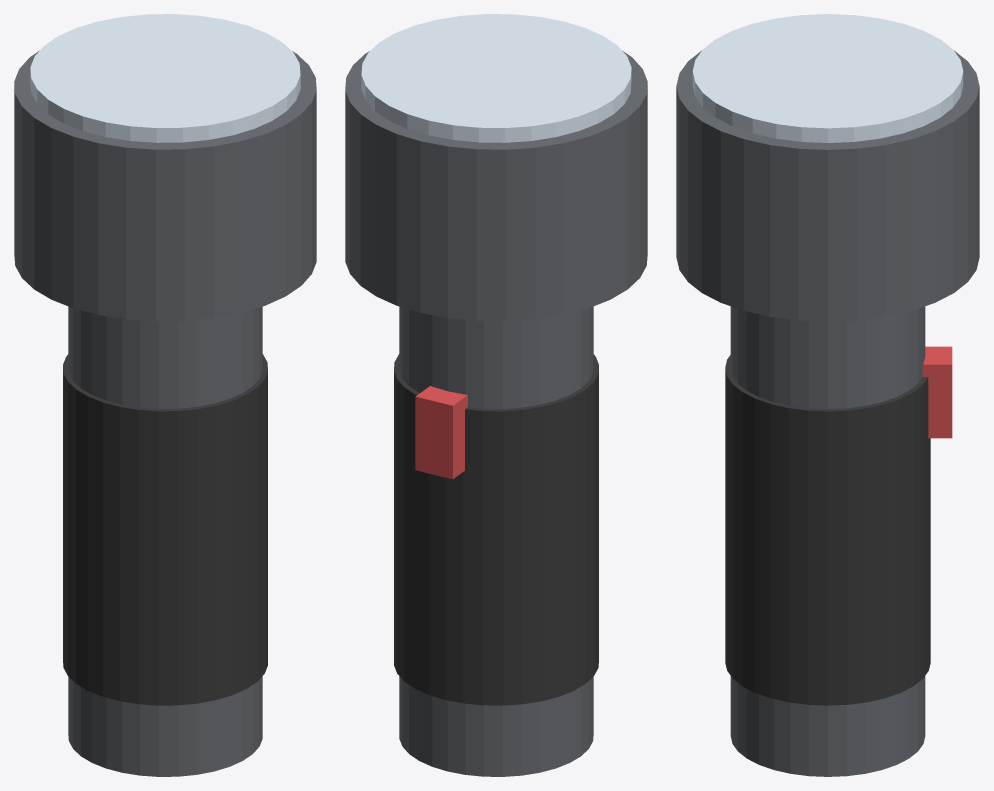
The model's file is tool_flashlight.fbx.
3 renders of one model, left to right at view 1: azimuth 30°, elevation 25°; view 2: azimuth 150°, elevation 25°; view 3: azimuth 270°, elevation 25°, orthographic.
Parts seen in each view (by area): view 1: Flashlight_Grip, Flashlight_Head, Flashlight_Handle, Flashlight_Lens; view 2: Flashlight_Grip, Flashlight_Head, Flashlight_Handle, Flashlight_Lens, Flashlight_Switch; view 3: Flashlight_Grip, Flashlight_Head, Flashlight_Handle, Flashlight_Lens, Flashlight_Switch.
Part boxes in pixels (box(x1,y1,x2,y2)): Flashlight_Grip: box(63, 354, 267, 705); Flashlight_Head: box(14, 50, 316, 321); Flashlight_Handle: box(68, 306, 262, 776); Flashlight_Lens: box(30, 14, 300, 142); Flashlight_Grip: box(394, 354, 598, 705); Flashlight_Head: box(345, 50, 647, 321); Flashlight_Handle: box(399, 306, 593, 776); Flashlight_Lens: box(361, 14, 631, 142); Flashlight_Switch: box(415, 386, 467, 479); Flashlight_Grip: box(725, 355, 930, 705); Flashlight_Head: box(676, 50, 979, 321); Flashlight_Handle: box(730, 306, 925, 776); Flashlight_Lens: box(692, 14, 963, 142); Flashlight_Switch: box(922, 346, 952, 438).
Size of the model in its own units: 0.56 by 1.36 by 0.56.
